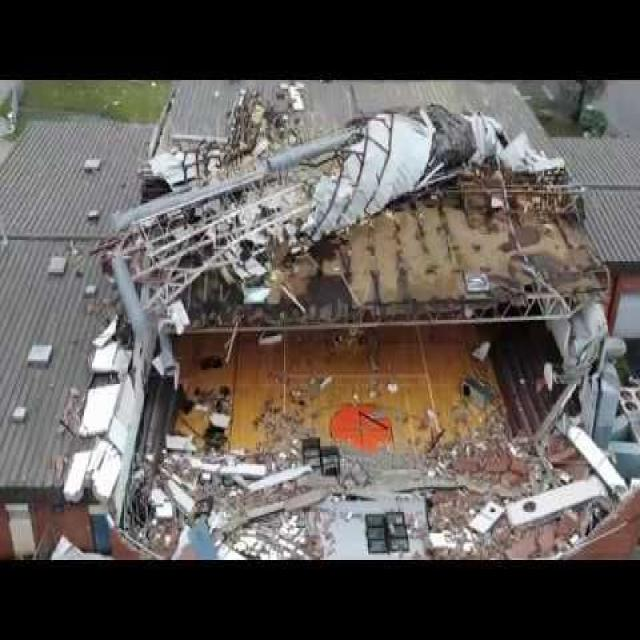collapsed_building: (140, 107, 576, 535)
